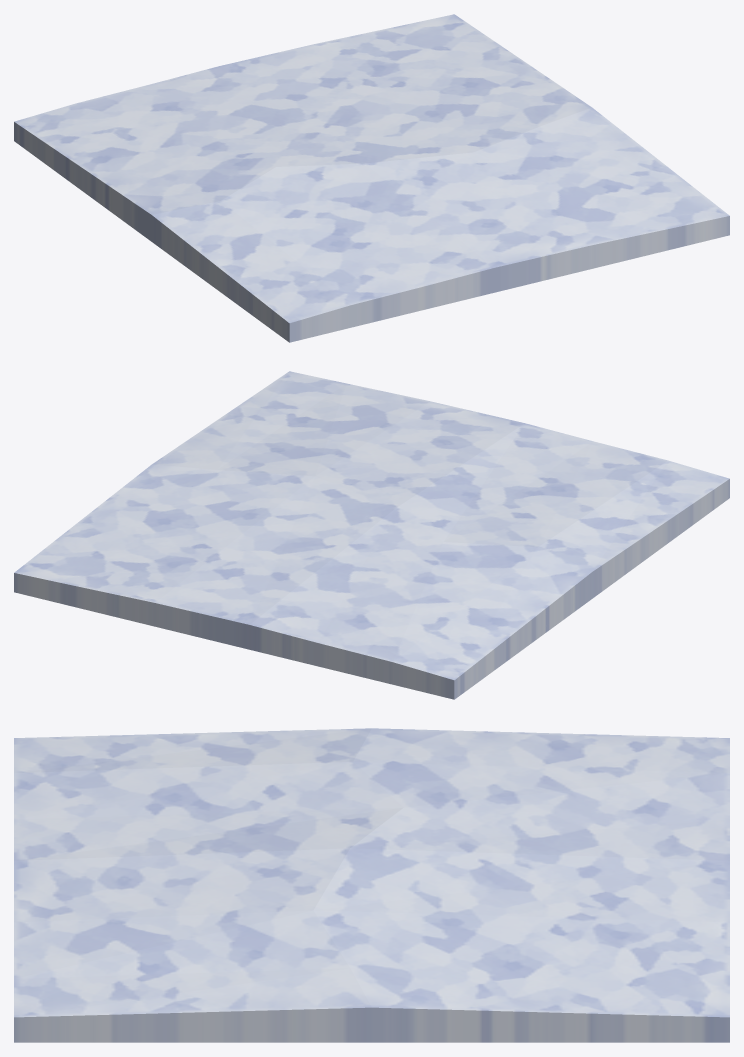
File: snow_awning.glb
3 renders of one model, top to bottom at view 1: azimuth 30°, elevation 25°; view 2: azimuth 150°, elevation 25°; view 3: azimuth 270°, elevation 25°, orthographic. The views are drawn at different scales.
Parts seen in each view (by area): view 1: winter_snow_awning; view 2: winter_snow_awning; view 3: winter_snow_awning.
Part boxes in pixels (x1=…): winter_snow_awning: x1=14, y1=14, x2=729, y2=342; winter_snow_awning: x1=14, y1=371, x2=729, y2=699; winter_snow_awning: x1=14, y1=728, x2=729, y2=1042.
Size of the model in its own units: 2.4 by 0.18 by 2.6.
1 material, 1 textured.
